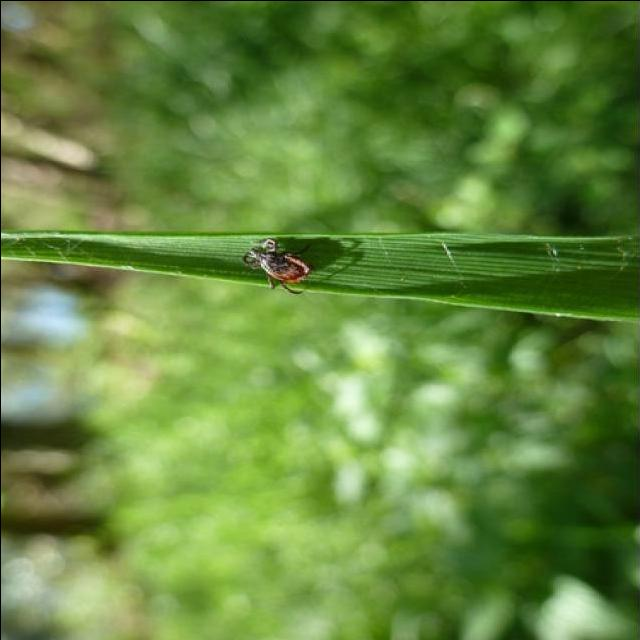Ixodes Ricinus-F: (244, 237, 314, 293)
